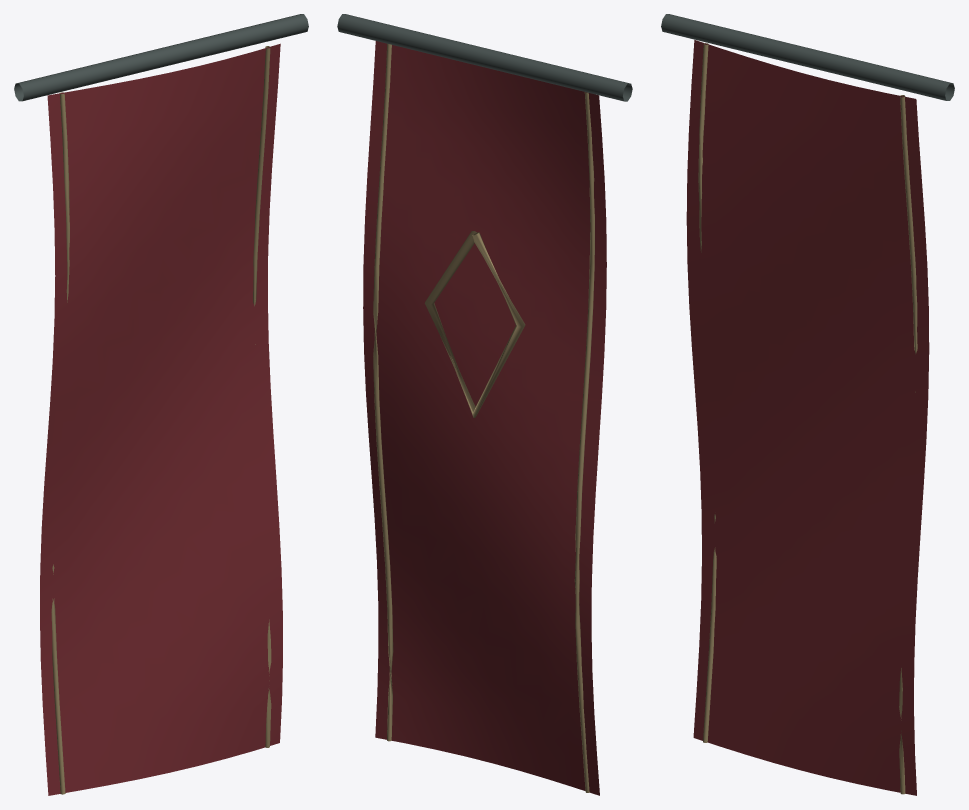
File: hanging_standard.glb
The picture shows the model from 3 angles, left to right: view 1: azimuth 30°, elevation 25°; view 2: azimuth 150°, elevation 25°; view 3: azimuth 330°, elevation 25°; orthographic projection.
Visible parts, largest first — view 1: Cloth standard; view 2: Cloth standard; view 3: Cloth standard.
Boxes of the visible parts, box(x1,y1,x2,y2) form: Cloth standard: box(14, 14, 308, 795); Cloth standard: box(337, 14, 632, 795); Cloth standard: box(661, 14, 954, 795).
Bounding box in the file's own units: 1.5 × 3.62 × 0.1858.
